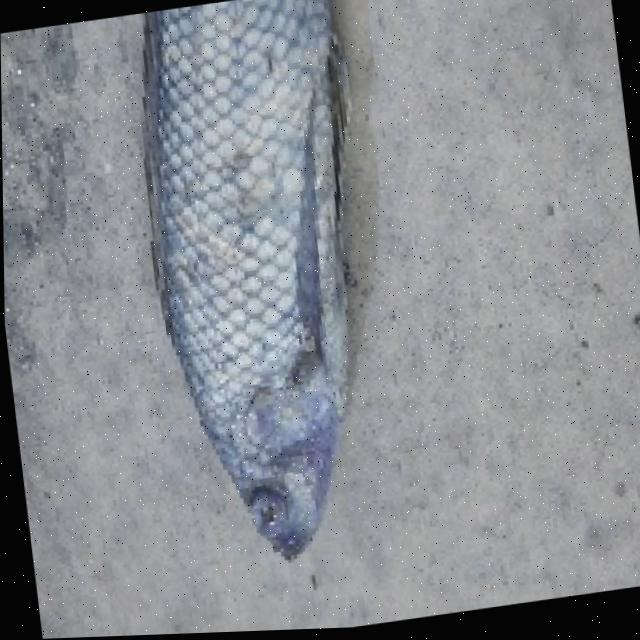Non-Fresh: (106, 0, 397, 587)
